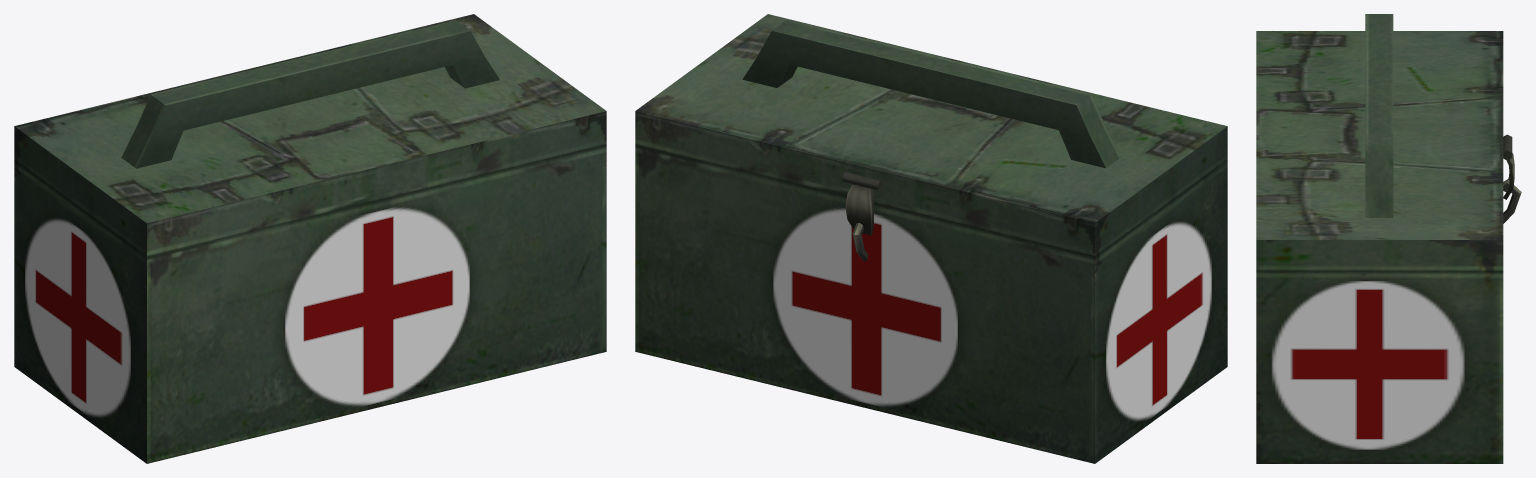
Rendered from Supply_Package_Case.FBX.
3 views of the same model, side by side, from view 1: azimuth 30°, elevation 25°; view 2: azimuth 150°, elevation 25°; view 3: azimuth 270°, elevation 25° (orthographic). The views are drawn at different scales.
Parts seen in each view (by area): view 1: Supply_Package; view 2: Supply_Package; view 3: Supply_Package.
Part boxes in pixels (left/top/right/bottom): Supply_Package: left=14, top=14, right=606, bottom=463; Supply_Package: left=635, top=14, right=1227, bottom=463; Supply_Package: left=1256, top=14, right=1521, bottom=463.
Size of the model in its own units: 200 by 107 by 123.
Materials: 1 (1 with a texture image).
